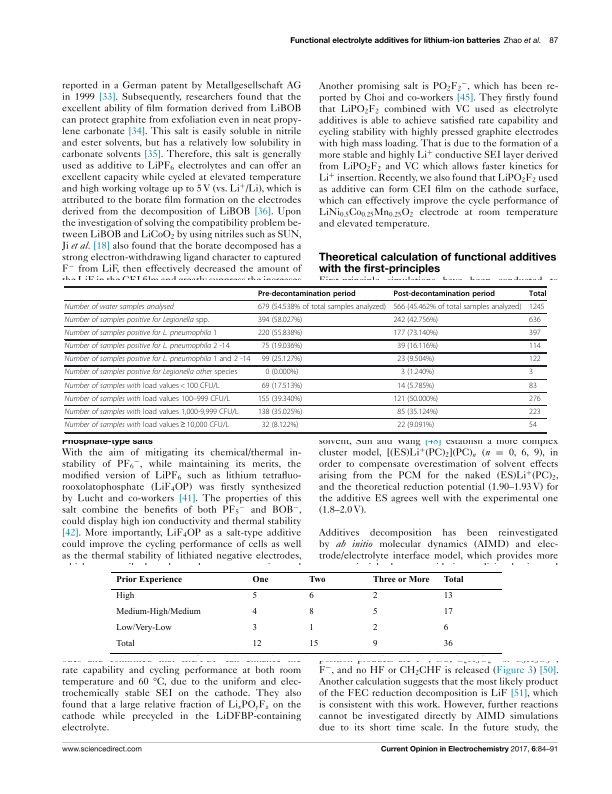borderless: (64, 285, 546, 432), (110, 570, 502, 653)
cell: (64, 407, 240, 417), (64, 355, 251, 364), (64, 394, 231, 404), (64, 341, 230, 351), (64, 420, 230, 430), (64, 368, 238, 377), (64, 328, 218, 338), (64, 315, 210, 325), (64, 381, 220, 390), (257, 302, 387, 312), (392, 302, 522, 312), (64, 302, 175, 312), (392, 289, 496, 298), (257, 289, 356, 298), (115, 607, 201, 617), (115, 574, 182, 584), (371, 574, 430, 584), (115, 623, 172, 633), (392, 315, 439, 325), (392, 328, 439, 338), (392, 394, 439, 404), (257, 315, 303, 325), (257, 328, 303, 338), (257, 394, 303, 404), (257, 407, 303, 417), (396, 341, 439, 351), (396, 407, 439, 417), (261, 341, 303, 351), (396, 420, 435, 430), (261, 420, 299, 430), (261, 355, 303, 364), (261, 381, 303, 390), (396, 355, 435, 364), (396, 381, 435, 390), (264, 368, 299, 377), (400, 368, 435, 377), (442, 574, 464, 584), (115, 591, 135, 601), (115, 639, 135, 649), (251, 574, 269, 584), (308, 574, 326, 584), (528, 289, 547, 298), (528, 302, 545, 312), (528, 315, 542, 325), (528, 328, 542, 338), (528, 341, 542, 351), (528, 394, 542, 404), (528, 407, 542, 417), (528, 355, 542, 364), (442, 591, 453, 601), (442, 607, 453, 617), (251, 639, 262, 649), (308, 639, 319, 649), (442, 639, 453, 649), (528, 420, 538, 430), (528, 381, 538, 390), (371, 591, 378, 601), (371, 607, 378, 617), (371, 623, 378, 633), (442, 623, 449, 633), (371, 639, 378, 649), (251, 591, 257, 601), (308, 591, 314, 601), (251, 607, 257, 617), (308, 607, 314, 617), (251, 623, 257, 633), (308, 623, 314, 633), (528, 368, 534, 377)
